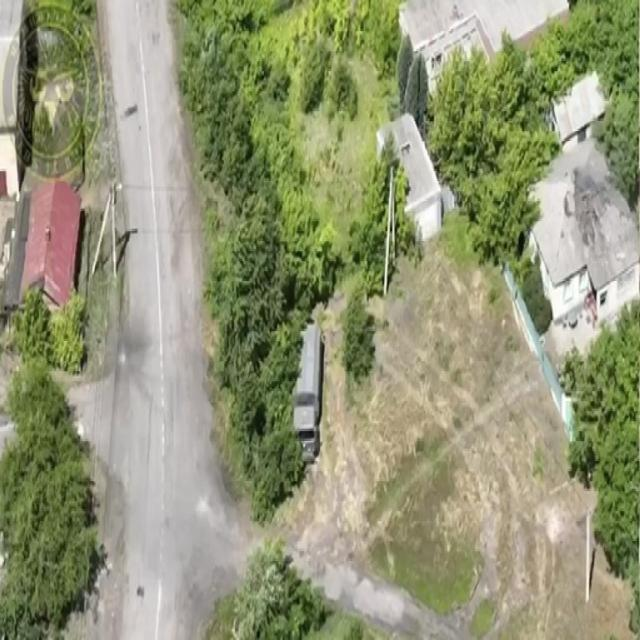TRUCK: (282, 309, 328, 469)
